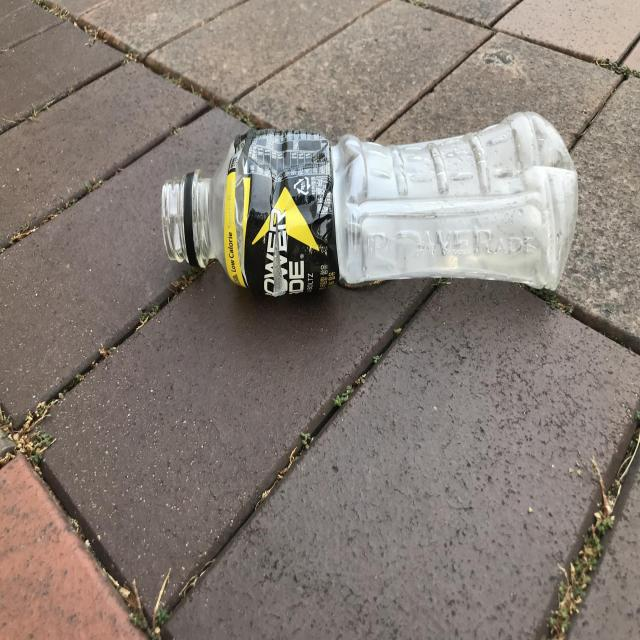plastic: (161, 111, 579, 296)
